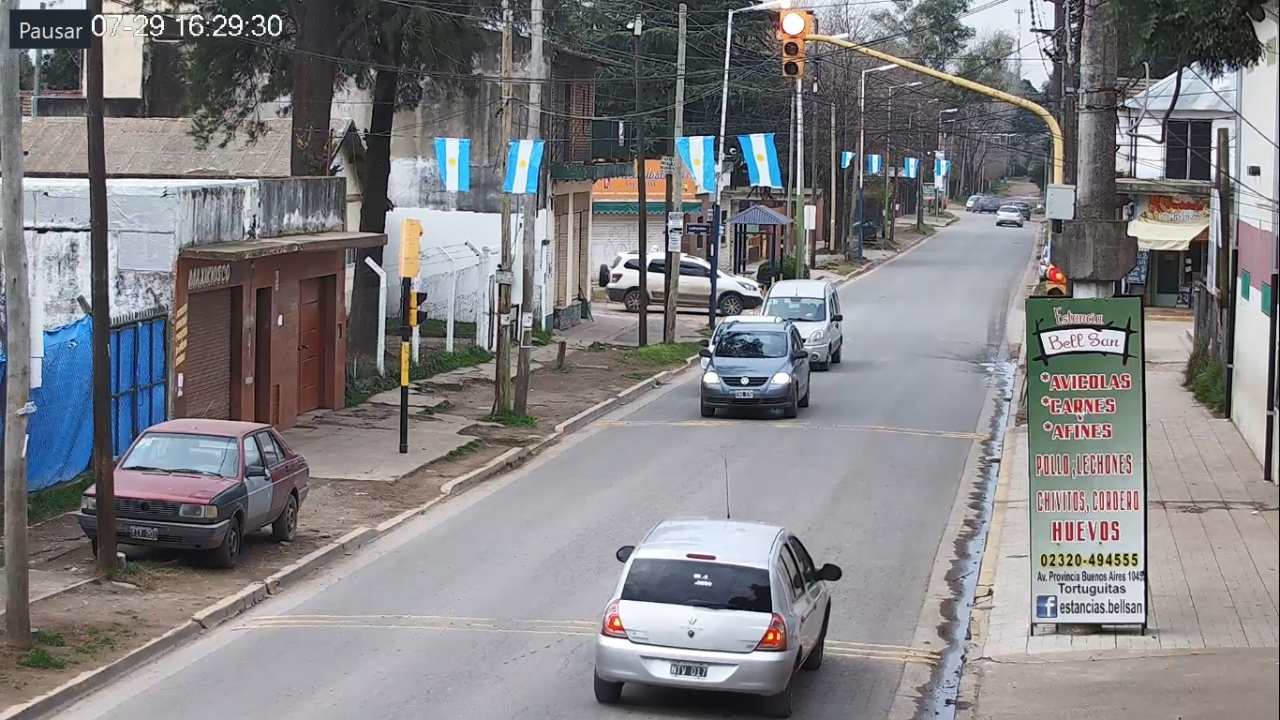car: (594, 517, 842, 716)
front car: (700, 322, 810, 418)
traffic light: (781, 10, 804, 77)
